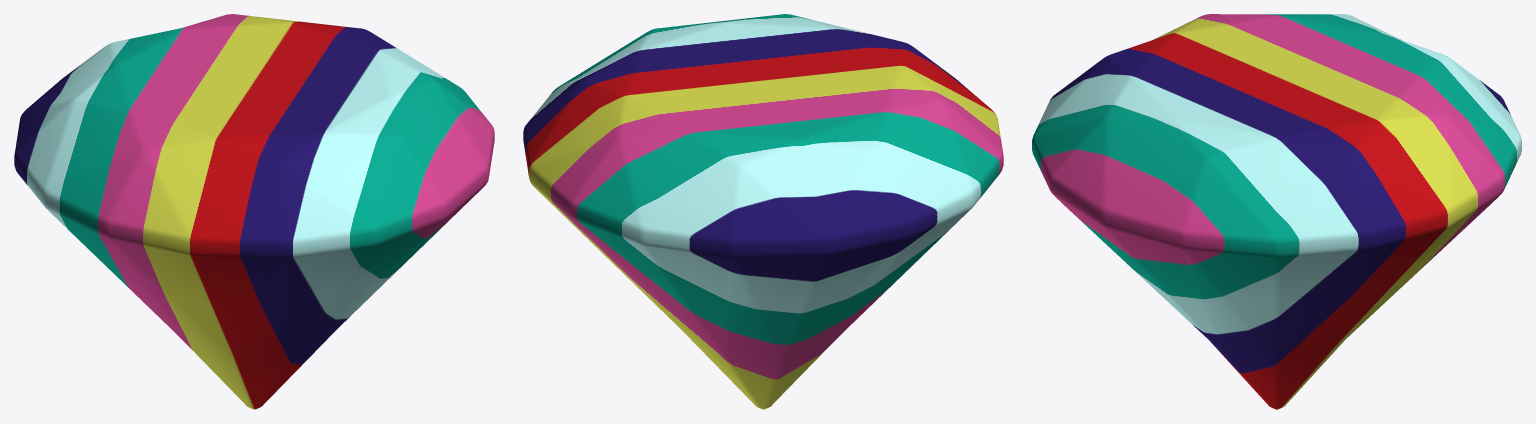
File: A-8_Onstick.fbx
The picture shows the model from 3 angles, left to right: view 1: azimuth 30°, elevation 25°; view 2: azimuth 150°, elevation 25°; view 3: azimuth 270°, elevation 25°; orthographic projection.
Visible parts, largest first — view 1: A-8; view 2: A-8; view 3: A-8.
Boxes of the visible parts, <box> form: A-8: <box>14,14,494,409</box>; A-8: <box>523,14,1003,409</box>; A-8: <box>1032,14,1521,409</box>.
Size of the model in its own units: 130 by 130 by 97.71.
